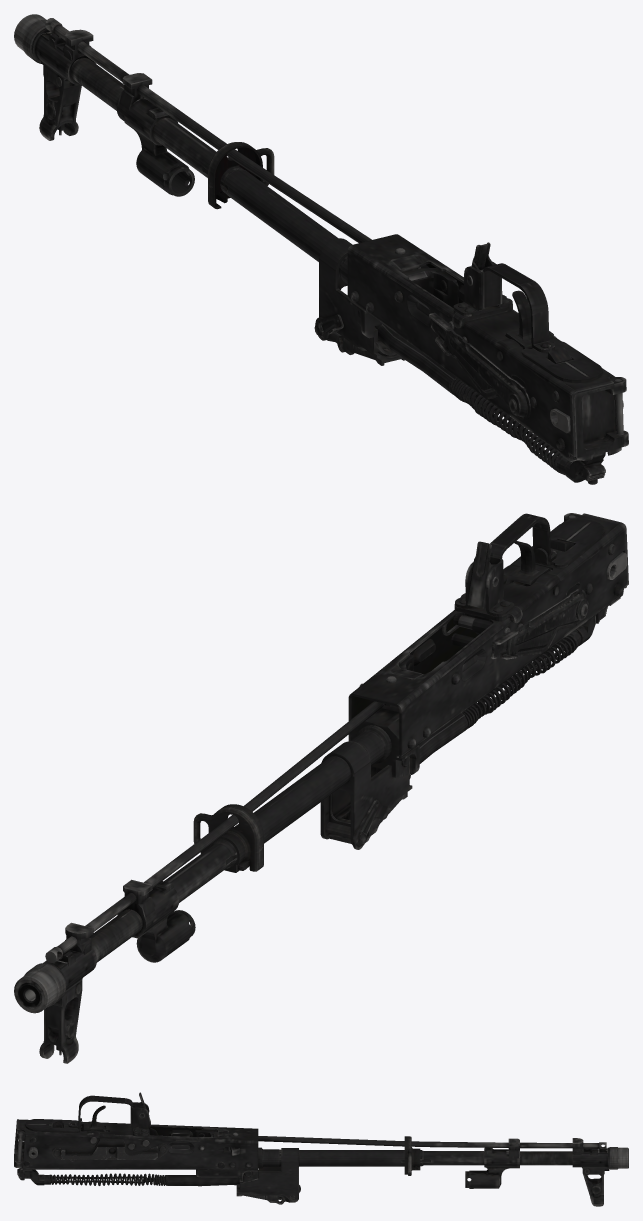
3 renders of one model, top to bottom at view 1: azimuth 30°, elevation 25°; view 2: azimuth 150°, elevation 25°; view 3: azimuth 270°, elevation 25°, orthographic. The views are drawn at different scales.
Visible parts, largest first — view 1: TW_5ac66d2e5acfc43b321d4b53_PZ_Import; view 2: TW_5ac66d2e5acfc43b321d4b53_PZ_Import; view 3: TW_5ac66d2e5acfc43b321d4b53_PZ_Import.
Part boxes in pixels (box(x1,y1,x2,y2)): TW_5ac66d2e5acfc43b321d4b53_PZ_Import: box(14, 14, 628, 484); TW_5ac66d2e5acfc43b321d4b53_PZ_Import: box(14, 513, 628, 1063); TW_5ac66d2e5acfc43b321d4b53_PZ_Import: box(14, 1092, 628, 1206).
Bounding box in the file's own units: 0.0285 × 0.373 × 0.0735.
1 material, 1 textured.
